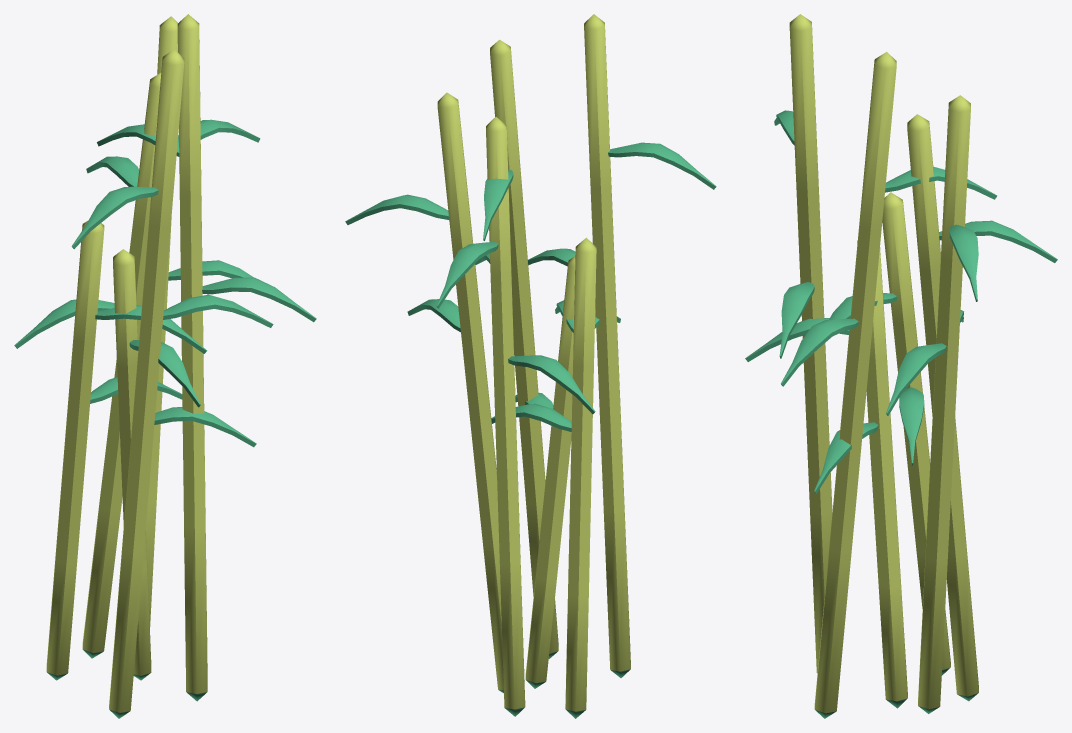
Rendered from W3_Bamboo.fbx.
3 renders of one model, left to right at view 1: azimuth 30°, elevation 25°; view 2: azimuth 150°, elevation 25°; view 3: azimuth 270°, elevation 25°, orthographic. The views are drawn at different scales.
Visible parts, largest first — view 1: W3_Bamboo; view 2: W3_Bamboo; view 3: W3_Bamboo.
Part boxes in pixels (bbox=[...]): W3_Bamboo: bbox=[14, 14, 316, 718]; W3_Bamboo: bbox=[345, 14, 716, 718]; W3_Bamboo: bbox=[745, 14, 1057, 718].
Size of the model in its own units: 2.12 by 4.73 by 1.95.
